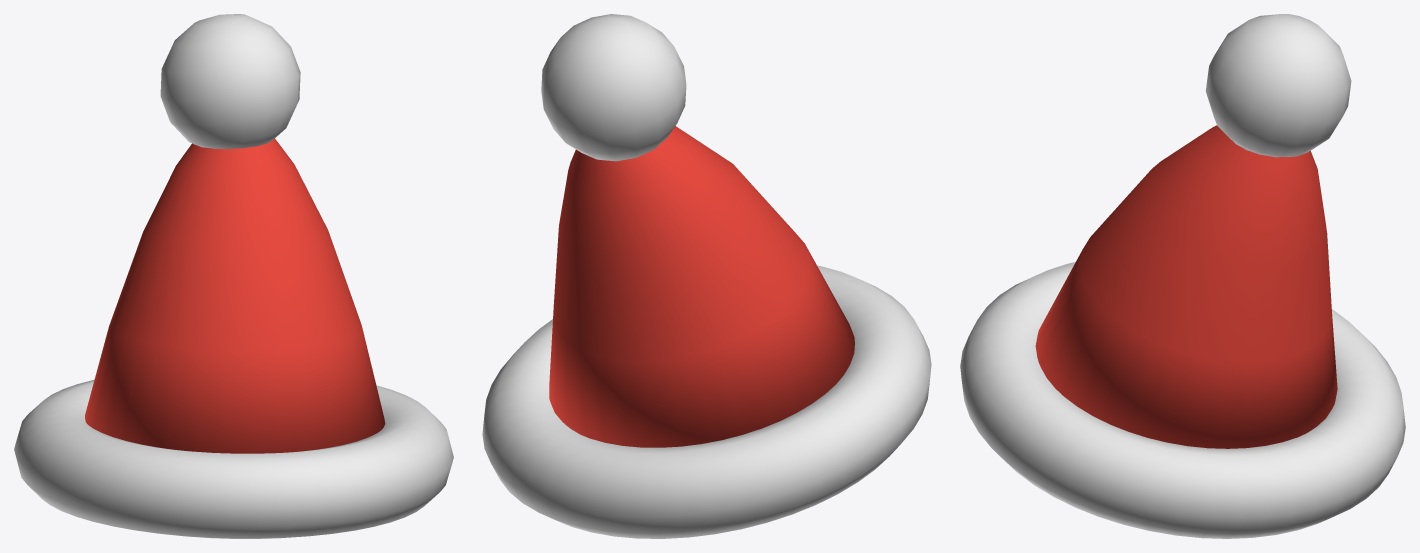
The model's file is duckyhat.fbx.
3 renders of one model, left to right at view 1: azimuth 30°, elevation 25°; view 2: azimuth 150°, elevation 25°; view 3: azimuth 270°, elevation 25°, orthographic. The views are drawn at different scales.
Parts seen in each view (by area): view 1: Duck.005; view 2: Duck.005; view 3: Duck.005.
Boxes of the visible parts, x1,y1,x2,y2 form: Duck.005: (14,14,453,538); Duck.005: (482,14,931,538); Duck.005: (960,14,1405,538).
Bounding box in the file's own units: 8.31 × 9.61 × 8.26.
